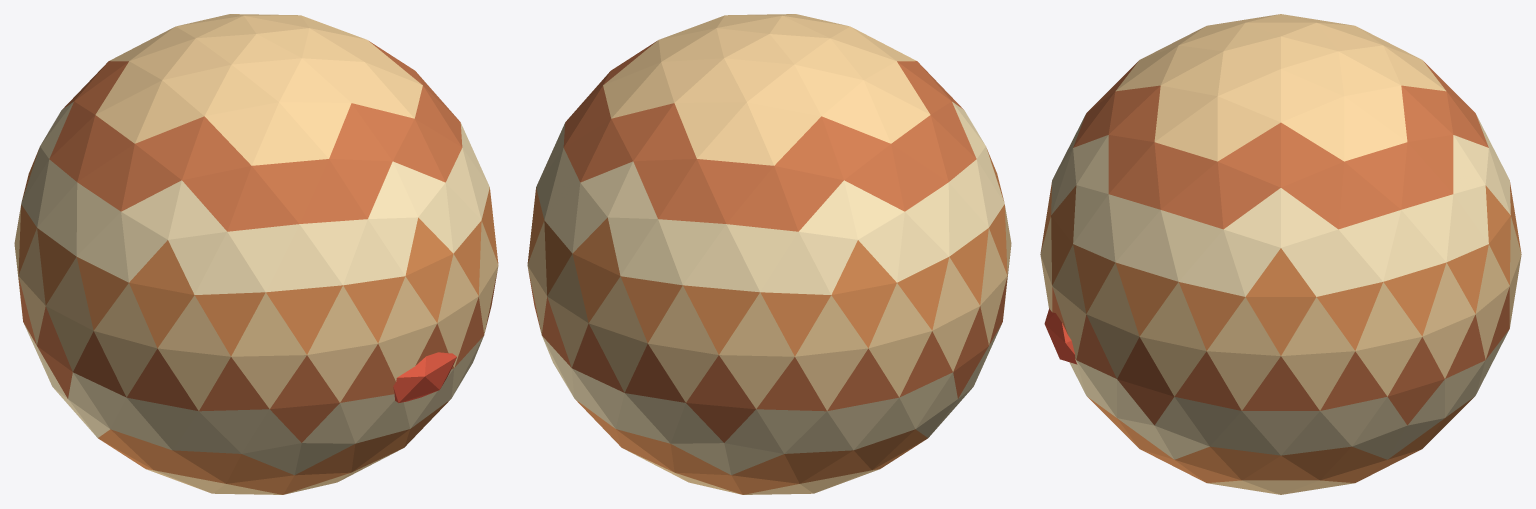
Rendered from jupiter.glb.
The picture shows the model from 3 angles, left to right: view 1: azimuth 30°, elevation 25°; view 2: azimuth 150°, elevation 25°; view 3: azimuth 270°, elevation 25°; orthographic projection.
Visible parts, largest first — view 1: Jupiter.001; view 2: Jupiter.001; view 3: Jupiter.001.
Part boxes in pixels (x1=…): Jupiter.001: x1=14, y1=14, x2=498, y2=494; Jupiter.001: x1=527, y1=14, x2=1011, y2=494; Jupiter.001: x1=1040, y1=14, x2=1521, y2=494.
Bounding box in the file's own units: 2 × 2 × 2.
